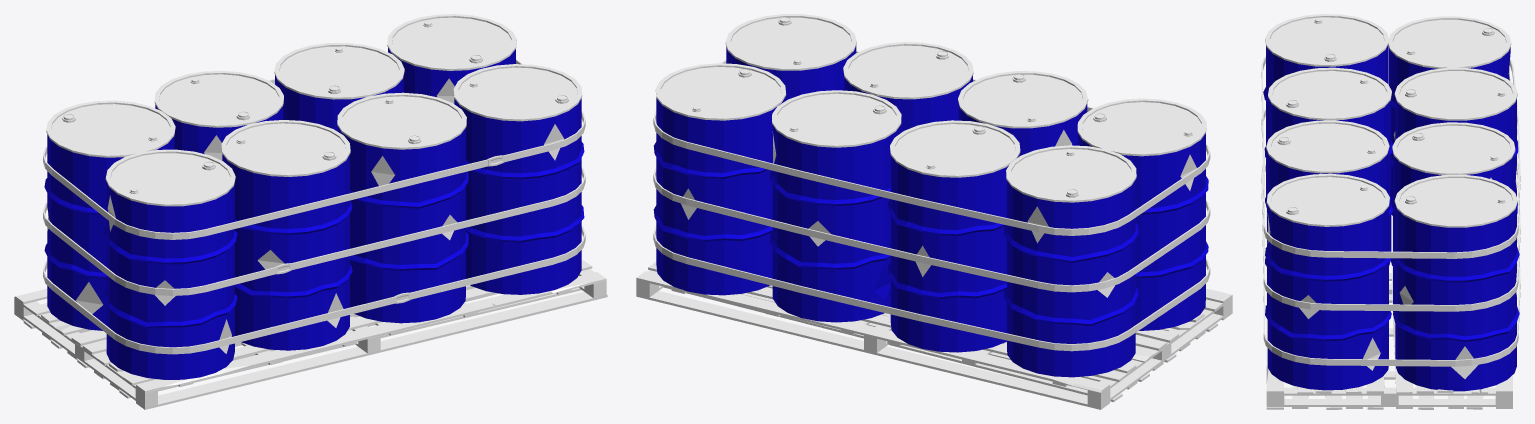
File: SM_Cargo_Barrel.glb
3 renders of one model, left to right at view 1: azimuth 30°, elevation 25°; view 2: azimuth 150°, elevation 25°; view 3: azimuth 270°, elevation 25°, orthographic. The views are drawn at different scales.
Parts seen in each view (by area): view 1: SM_Cargo_Barrel; view 2: SM_Cargo_Barrel; view 3: SM_Cargo_Barrel.
Part boxes in pixels (x1,y1,x2,y2): SM_Cargo_Barrel: (14,14,607,409); SM_Cargo_Barrel: (636,14,1232,409); SM_Cargo_Barrel: (1261,14,1520,409).
Bounding box in the file's own units: 2.48 × 0.999 × 1.26.
